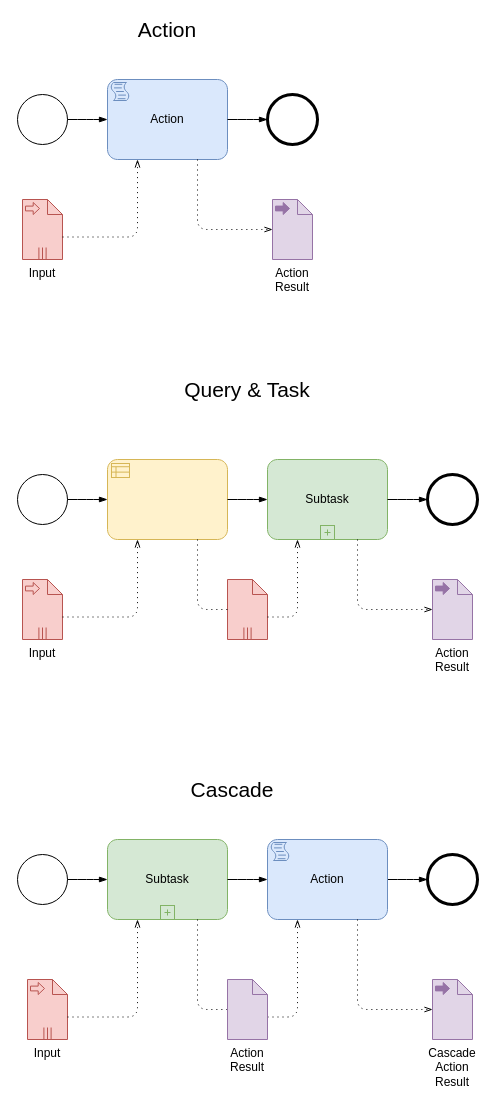
Image size: 495x1107. Some labels were removed from this diagram. Here are the shapes that lost their labels. From the top down, the box of each, then its label:
(106, 458, 228, 540): Query
(226, 578, 268, 640): Results
